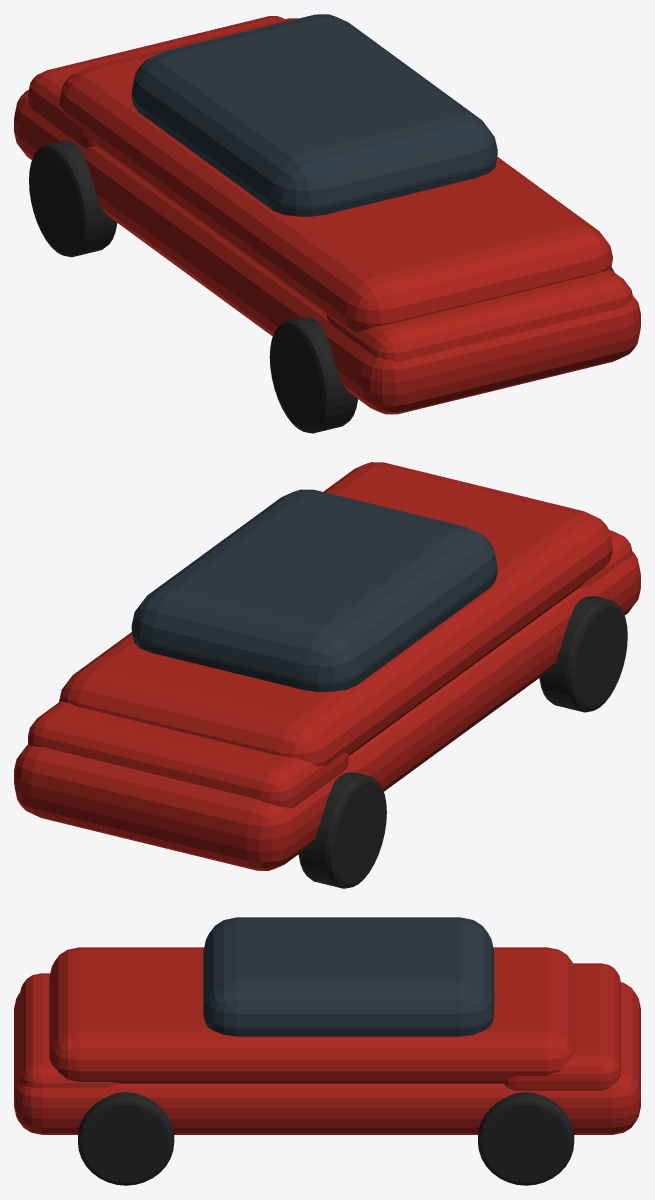
The model's file is generic_hypercar.glb.
3 renders of one model, top to bottom at view 1: azimuth 30°, elevation 25°; view 2: azimuth 150°, elevation 25°; view 3: azimuth 270°, elevation 25°, orthographic. The views are drawn at different scales.
Parts seen in each view (by area): view 1: generic_hypercar_chassis_body_wheels_front_rear; view 2: generic_hypercar_chassis_body_wheels_front_rear; view 3: generic_hypercar_chassis_body_wheels_front_rear.
Part boxes in pixels (<box>): generic_hypercar_chassis_body_wheels_front_rear: <box>14,14,640,433</box>; generic_hypercar_chassis_body_wheels_front_rear: <box>14,462,640,888</box>; generic_hypercar_chassis_body_wheels_front_rear: <box>14,917,640,1185</box>.
Size of the model in its own units: 2.06 by 1.36 by 4.42.
